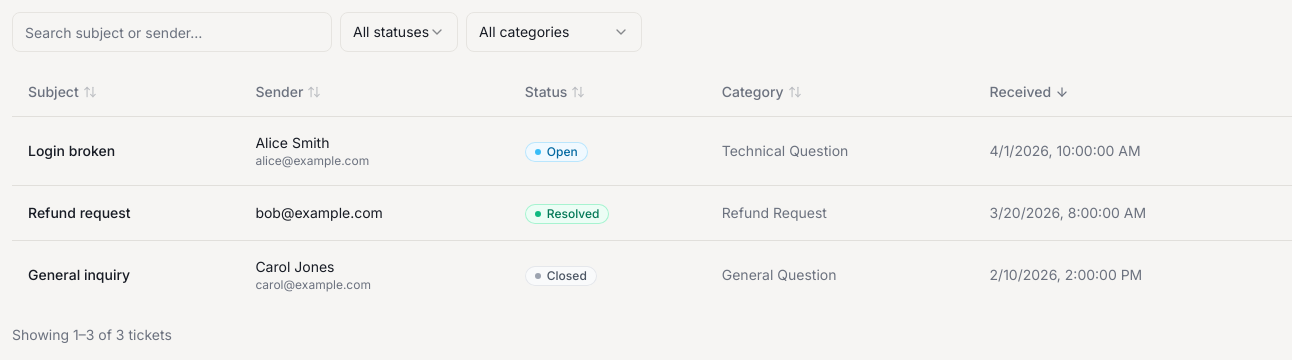
Test: TicketsTable — filtering › clicking Clear resets the search input and hides the Clear button
Expected: the link "Login broken" is shown, [28,142,115,158]
Type "test" into the field with placeholder "Search subject or sender…". click: (172, 32)
box: [12,12,332,52]
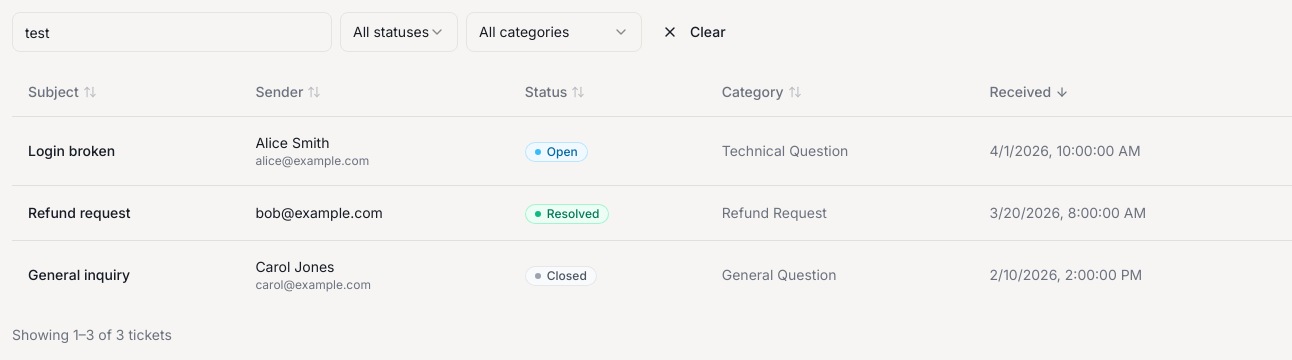
Expected: the button "Clear" is shown
Click the button "Clear". click: (694, 32)
box: [650,14,738,50]
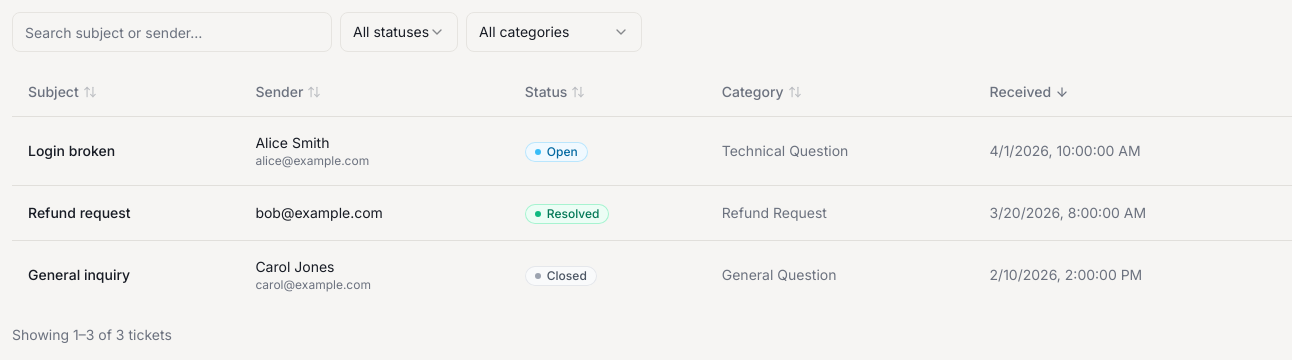
Expected: the field with placeholder "Search subject or sender…" is empty, [12,12,332,52]
Expected: the button "Clear" is gone
